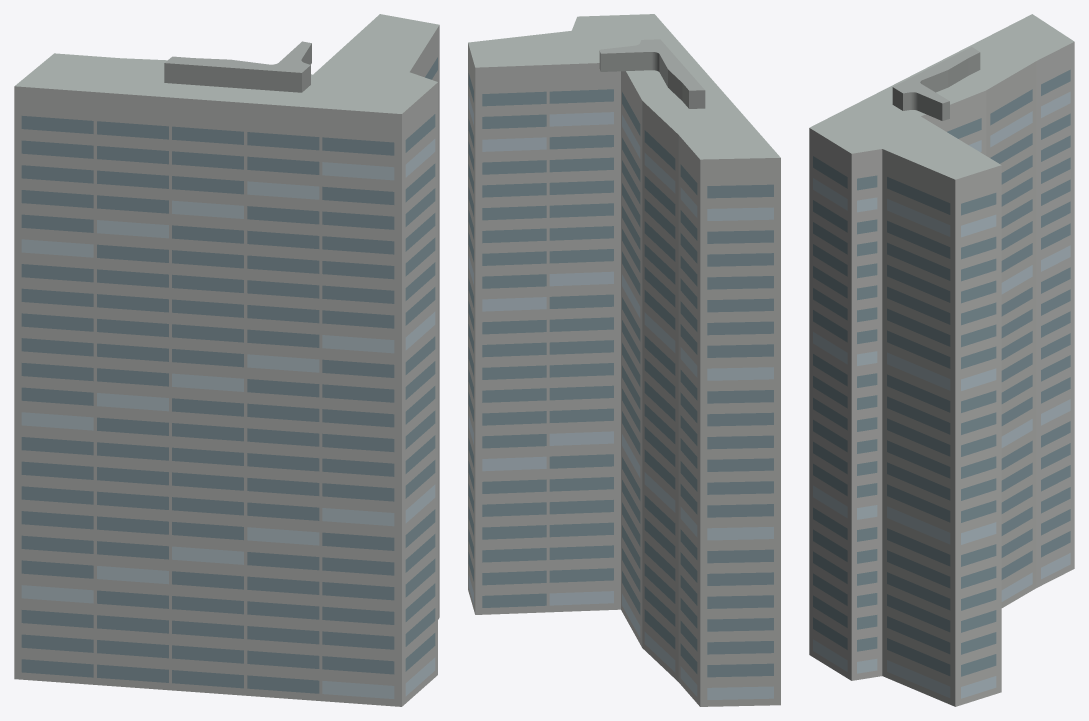
The model's file is fallback-godeok-gracium-151.glb.
3 renders of one model, left to right at view 1: azimuth 30°, elevation 25°; view 2: azimuth 150°, elevation 25°; view 3: azimuth 270°, elevation 25°, orthographic. The views are drawn at different scales.
Visible parts, largest first — view 1: fallback-godeok-gracium-151; view 2: fallback-godeok-gracium-151; view 3: fallback-godeok-gracium-151.
Boxes of the visible parts, bbox=[...] form: fallback-godeok-gracium-151: bbox=[14, 14, 439, 706]; fallback-godeok-gracium-151: bbox=[468, 14, 780, 706]; fallback-godeok-gracium-151: bbox=[809, 14, 1074, 706].
Bounding box in the file's own units: 48.29 × 74 × 32.66.
